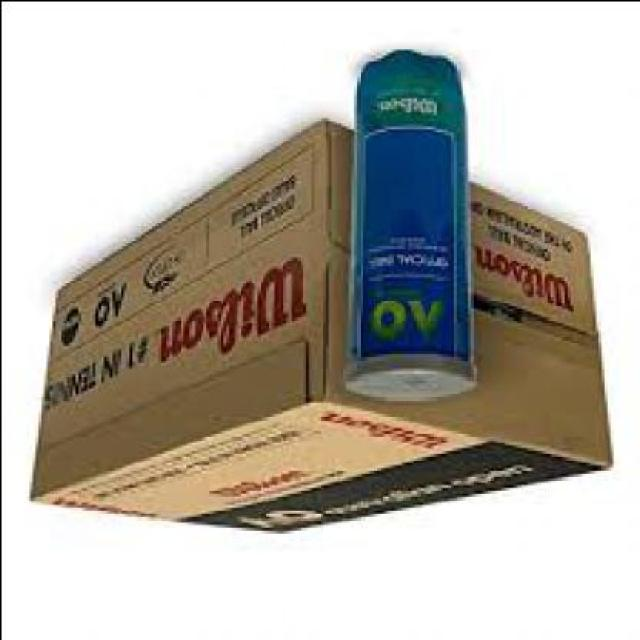CARDBOARD: (32, 122, 618, 538)
PLASTIC: (356, 54, 476, 369), (345, 358, 480, 407)
